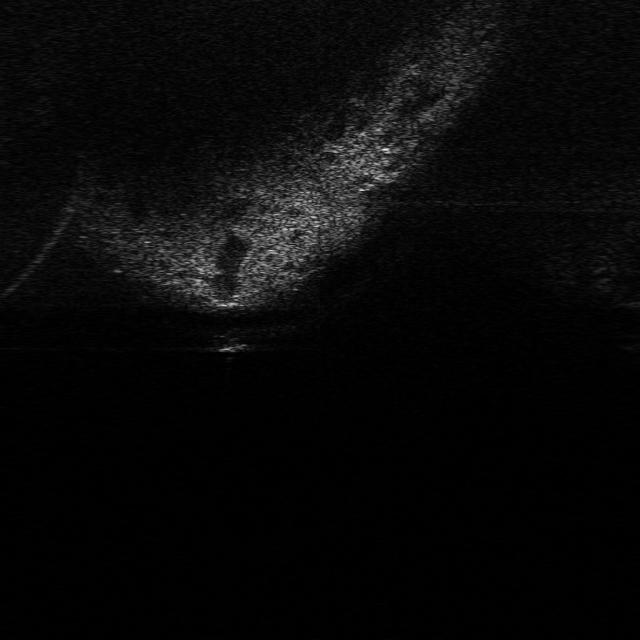cylinder: (203, 324, 251, 355)
